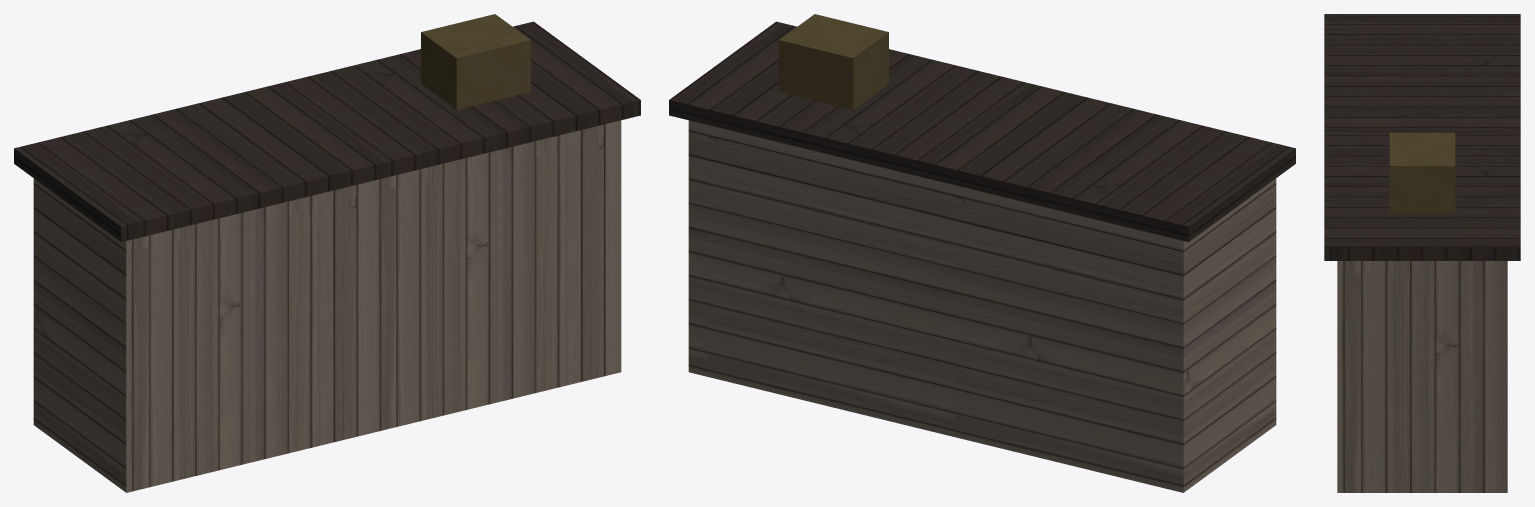
File: counter_01.glb
3 renders of one model, left to right at view 1: azimuth 30°, elevation 25°; view 2: azimuth 150°, elevation 25°; view 3: azimuth 270°, elevation 25°, orthographic. The views are drawn at different scales.
Visible parts, largest first — view 1: counter_01; view 2: counter_01; view 3: counter_01.
Boxes of the visible parts, bbox=[...] form: counter_01: bbox=[14, 14, 640, 492]; counter_01: bbox=[669, 14, 1295, 492]; counter_01: bbox=[1324, 14, 1520, 492].
Size of the model in its own units: 2.1 by 1.26 by 0.75.
3 materials, 3 textured.
